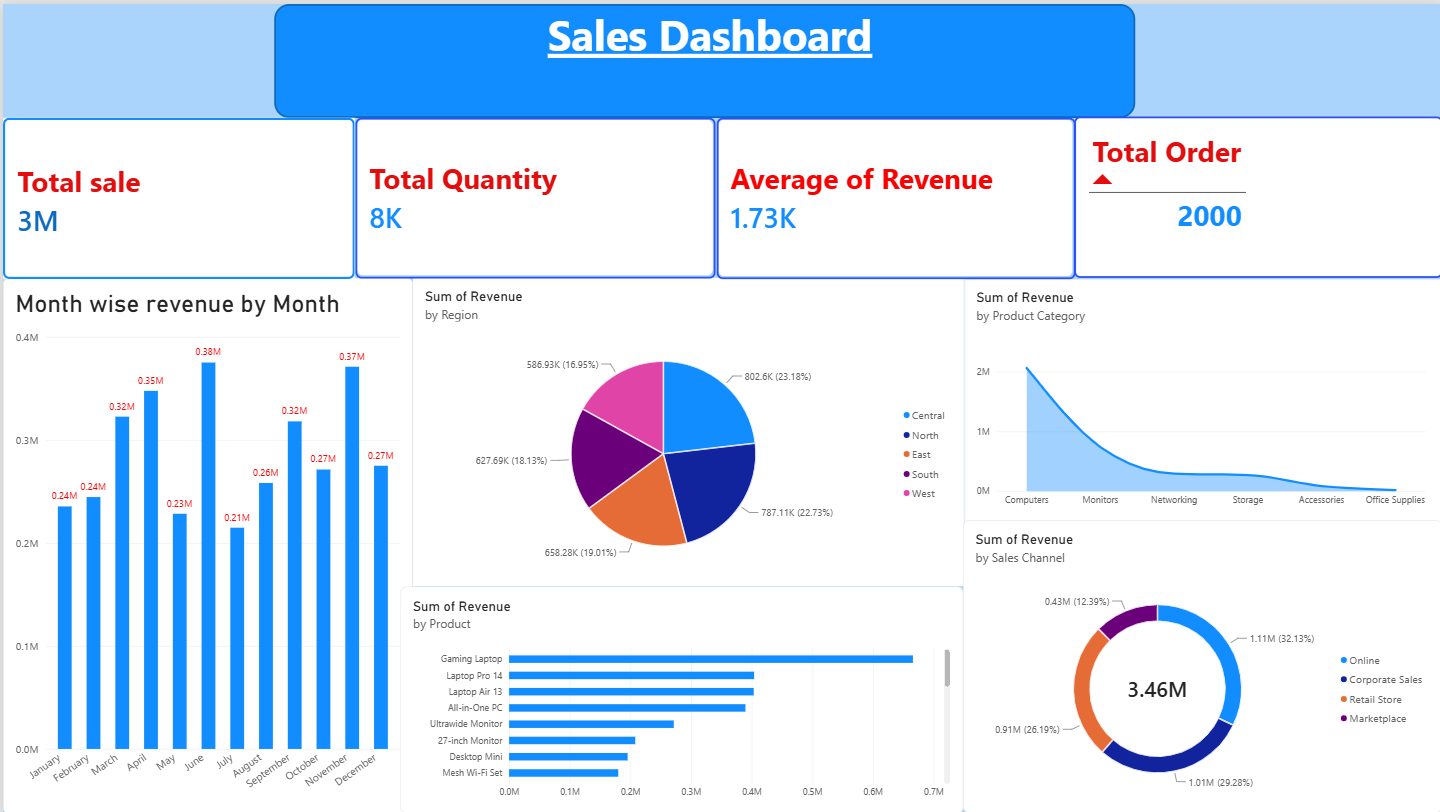

The page's visual inventory and layout, read from the dashboard file:
{"tool":"powerbi","page":{"name":"Page 1","canvas":[1920,1080],"ordinal":0},"visuals":[{"type":"textbox","box":[361,0,1147.8,152.1],"z":0},{"type":"columnChart","fields":{"Category":["Data.Date.Variation.Date Hierarchy.Month"],"Y":["Sum(Data.Revenue)"]},"box":[0,365.2,546.4,716.1],"z":1000},{"type":"pieChart","fields":{"Category":["Data.Region"],"Y":["Sum(Data.Revenue)"]},"box":[546.7,365,734.8,410.9],"z":2000},{"type":"areaChart","fields":{"Category":["Data.Product Category"],"Y":["Sum(Data.Revenue)"]},"box":[1281.6,367,639.1,323.9],"z":3000},{"type":"clusteredBarChart","fields":{"Category":["Data.Product"],"Y":["Sum(Data.Revenue)"]},"box":[530.4,776.1,750,304.3],"z":4000},{"type":"cardVisual","title":"Total Sale","fields":{"Data":["Sum(Data.Revenue)"]},"box":[0,152.2,469.6,215.2],"z":5000},{"type":"donutChart","fields":{"Category":["Data.Sales Channel"],"Y":["Sum(Data.Revenue)"]},"box":[1280.4,689.1,639.1,391.3],"z":6000},{"type":"cardVisual","fields":{"Data":["Sum(Data.Quantity)"]},"box":[469.6,150,480.4,215.2],"z":7000},{"type":"cardVisual","fields":{"Data":["Avg(Data.Revenue)"]},"box":[951.1,152.1,478.3,215.2],"z":8000},{"type":"tableEx","fields":{"Values":["Data.Order ID"]},"box":[1428.3,150,491.3,215.2],"z":9000}]}

Visuals, with their boxes in screenshot pixels (x1, y1, x2, y2), scaled from the page's 1920x1080 canvas onto the 1440x812 screenshot:
textbox: 271,0,1132,114
columnChart - Data.Date.Variation.Date Hierarchy.Month x Sum(Data.Revenue): 0,275,410,811
pieChart - Data.Region x Sum(Data.Revenue): 410,274,961,583
areaChart - Data.Product Category x Sum(Data.Revenue): 961,276,1439,519
clusteredBarChart - Data.Product x Sum(Data.Revenue): 398,584,960,811
"Total Sale" cardVisual: 0,114,352,276
donutChart - Data.Sales Channel x Sum(Data.Revenue): 960,518,1439,811
cardVisual - Sum(Data.Quantity): 352,113,712,275
cardVisual - Avg(Data.Revenue): 713,114,1072,276
tableEx - Data.Order ID: 1071,113,1439,275
